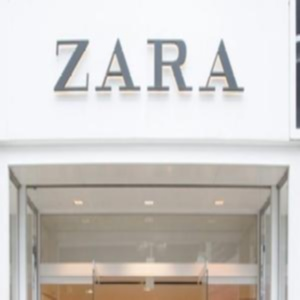zara: (221, 18, 267, 53)
